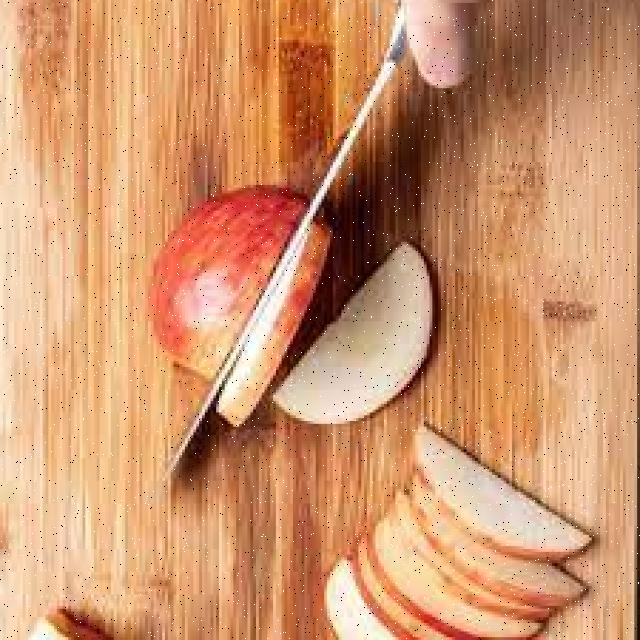Apple: (141, 192, 330, 424), (276, 244, 440, 426), (415, 426, 595, 562), (326, 562, 392, 638)
